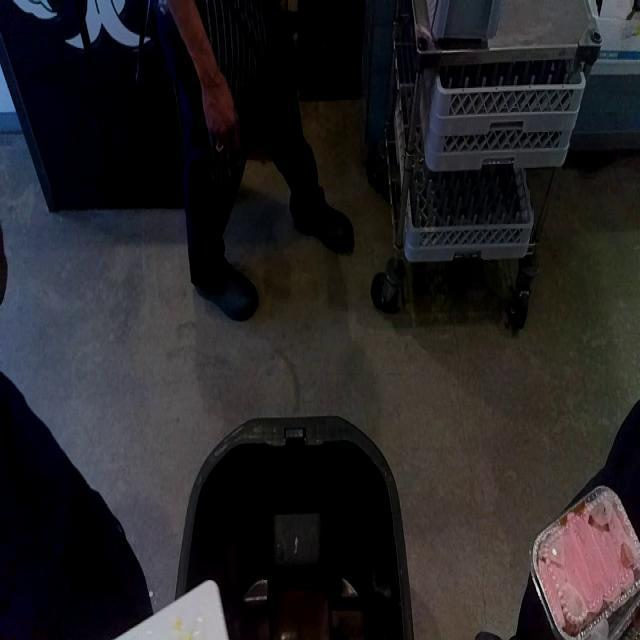Organik: (530, 492, 640, 630)
